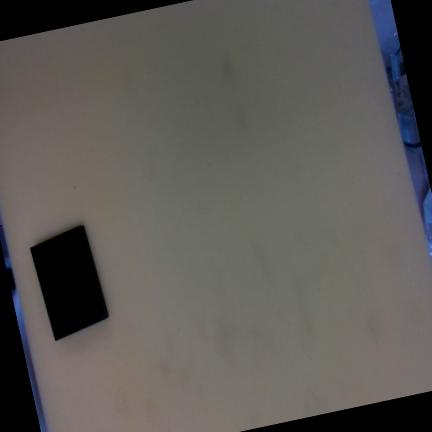tile: (27, 224, 109, 341)
